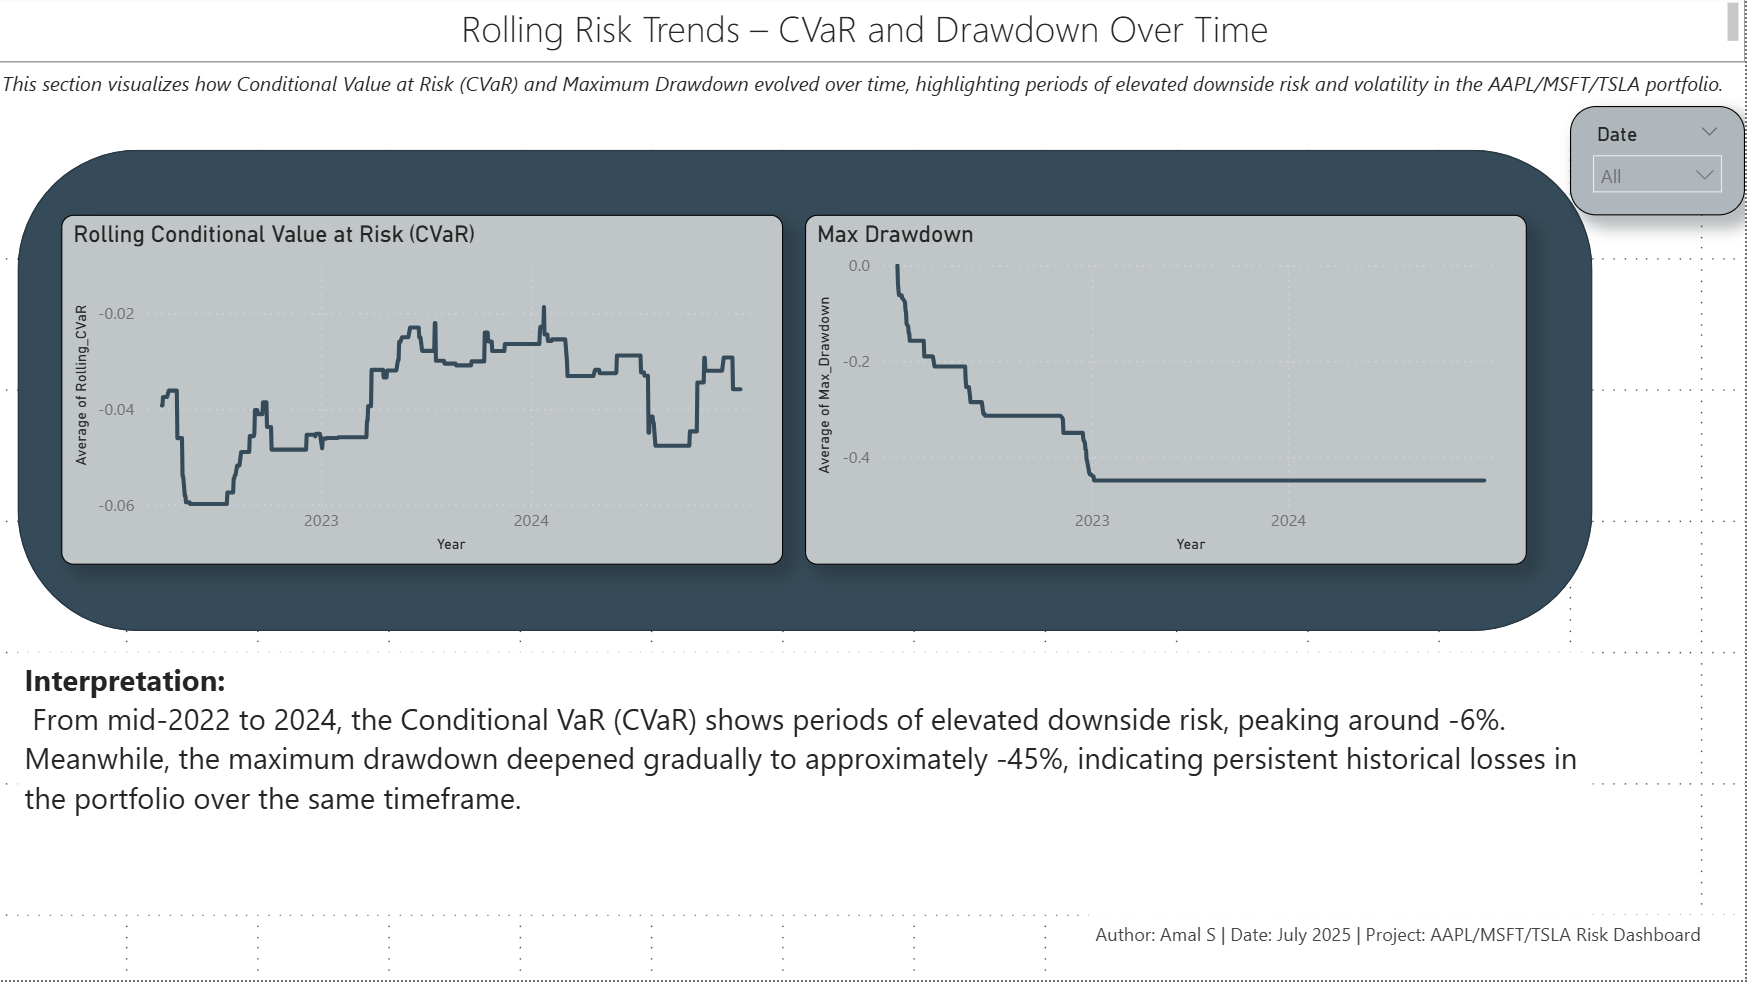

This screenshot's page, from the dashboard's own definition file:
{"tool":"powerbi","page":{"name":"Page 2","canvas":[1280,720],"ordinal":2},"visuals":[{"type":"shape","box":[0,0,1280,96],"z":0},{"type":"textbox","box":[800,672,480,48],"z":1000},{"type":"textbox","box":[0,0,1280,48],"z":2000},{"type":"textbox","box":[0,48,1280,64],"z":3000},{"type":"shape","box":[16,112,1152,352],"z":4000},{"type":"lineChart","title":"Rolling Conditional Value at Risk (CVaR) ","fields":{"Y":["Avg(powerbi_timeseries.Rolling_CVaR)"],"Category":["powerbi_timeseries.Date.Variation.Date Hierarchy.Year","powerbi_timeseries.Date.Variation.Date Hierarchy.Quarter","powerbi_timeseries.Date.Variation.Date Hierarchy.Month","powerbi_timeseries.Date.Variation.Date Hierarchy.Day"]},"box":[48,160,528,256],"z":5000},{"type":"lineChart","title":" Max Drawdown","fields":{"Y":["Avg(powerbi_timeseries.Max_Drawdown)"],"Category":["powerbi_timeseries.Date.Variation.Date Hierarchy.Year","powerbi_timeseries.Date.Variation.Date Hierarchy.Quarter","powerbi_timeseries.Date.Variation.Date Hierarchy.Month","powerbi_timeseries.Date.Variation.Date Hierarchy.Day"]},"box":[592,160,528,256],"z":6000},{"type":"textbox","box":[16,480,1152,192],"z":7000},{"type":"slicer","fields":{"Values":["powerbi_timeseries.Date"]},"box":[1152,80,128,80],"z":8000}]}

Visuals, with their boxes in screenshot pixels (x1, y1, x2, y2), scaled from the page's 1280x720 canvas onto the 1748x982 screenshot:
shape: [left=0, top=0, right=1747, bottom=131]
textbox: [left=1092, top=917, right=1747, bottom=981]
textbox: [left=0, top=0, right=1747, bottom=65]
textbox: [left=0, top=65, right=1747, bottom=153]
shape: [left=22, top=153, right=1595, bottom=633]
"Rolling Conditional Value at Risk (CVaR) " lineChart: [left=66, top=218, right=787, bottom=567]
" Max Drawdown" lineChart: [left=808, top=218, right=1530, bottom=567]
textbox: [left=22, top=655, right=1595, bottom=917]
slicer - powerbi_timeseries.Date: [left=1573, top=109, right=1747, bottom=218]
